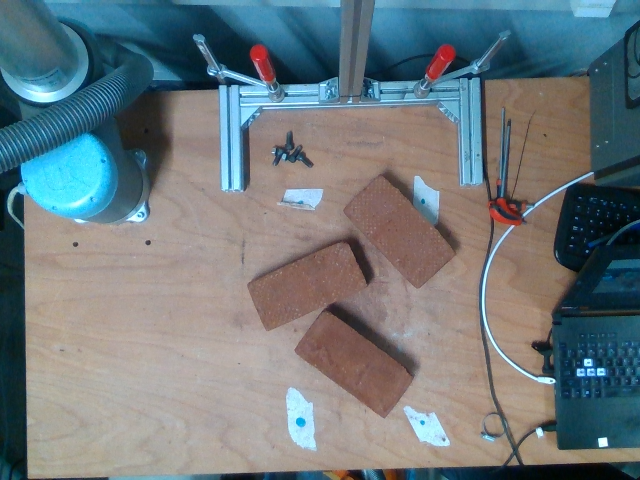brick: (295, 309, 416, 419), (343, 173, 455, 290), (248, 240, 367, 331)
